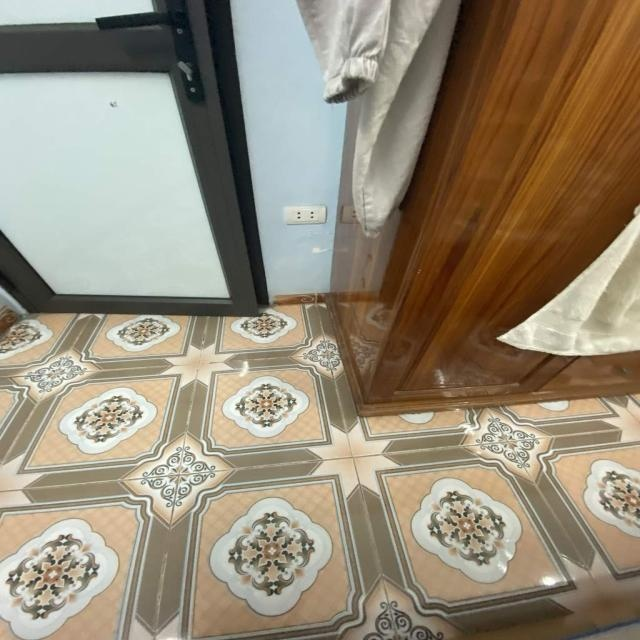outlet: (284, 204, 327, 225)
